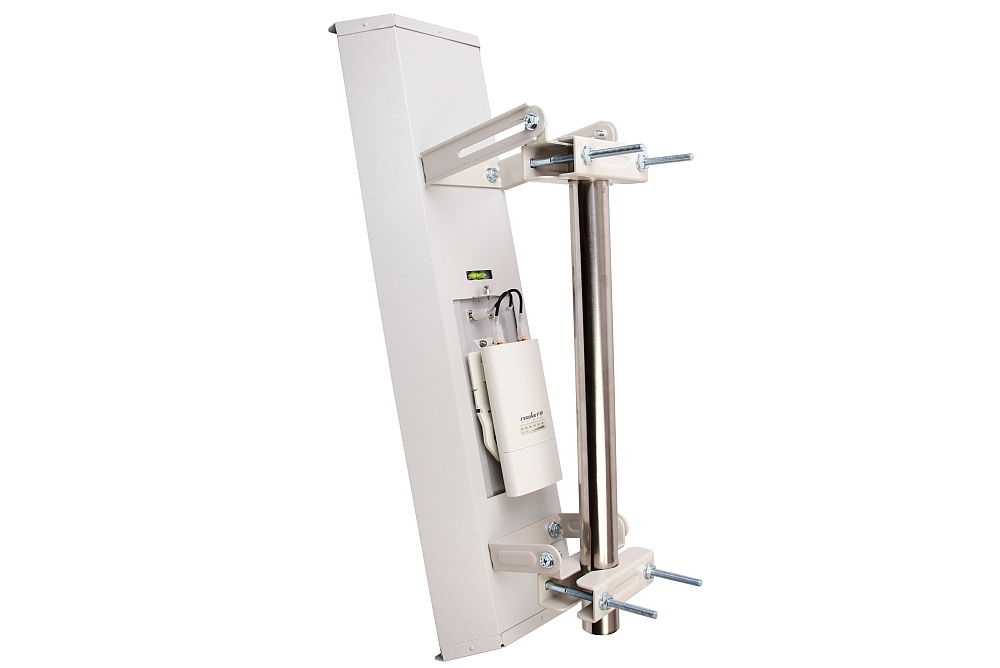sa: (319, 8, 638, 635)
